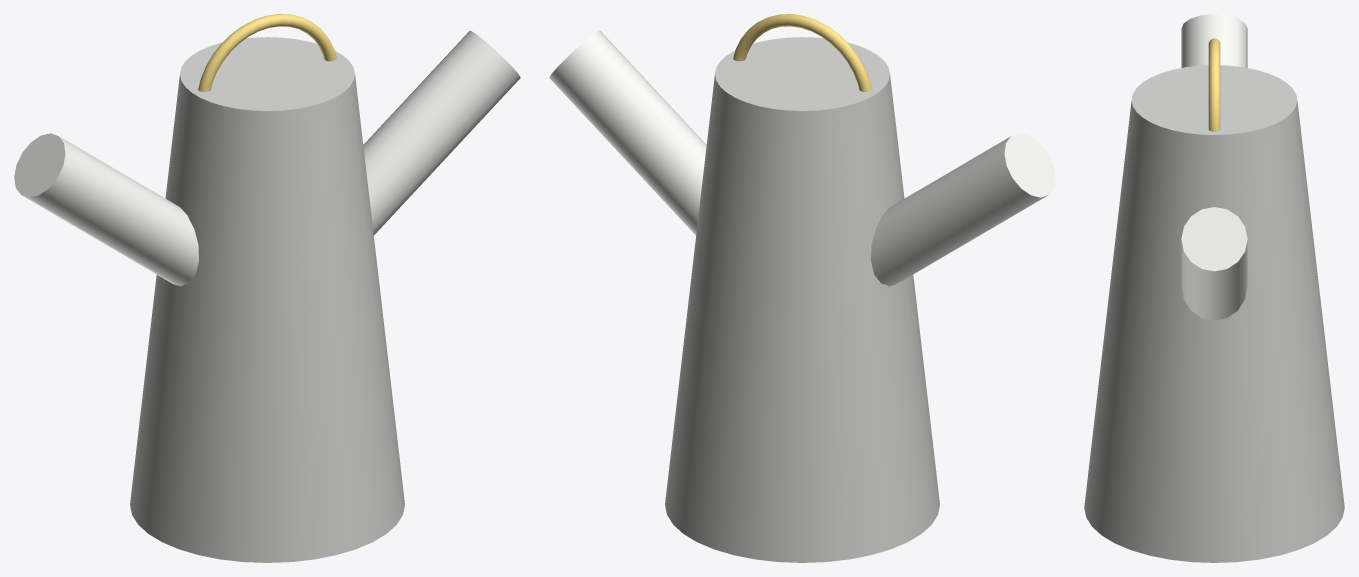
Rendered from kandura.glb.
The picture shows the model from 3 angles, left to right: view 1: azimuth 30°, elevation 25°; view 2: azimuth 150°, elevation 25°; view 3: azimuth 270°, elevation 25°; orthographic projection. The views are drawn at different scales.
Bounding box in the file's own units: 2.28 × 2.15 × 1.1.
